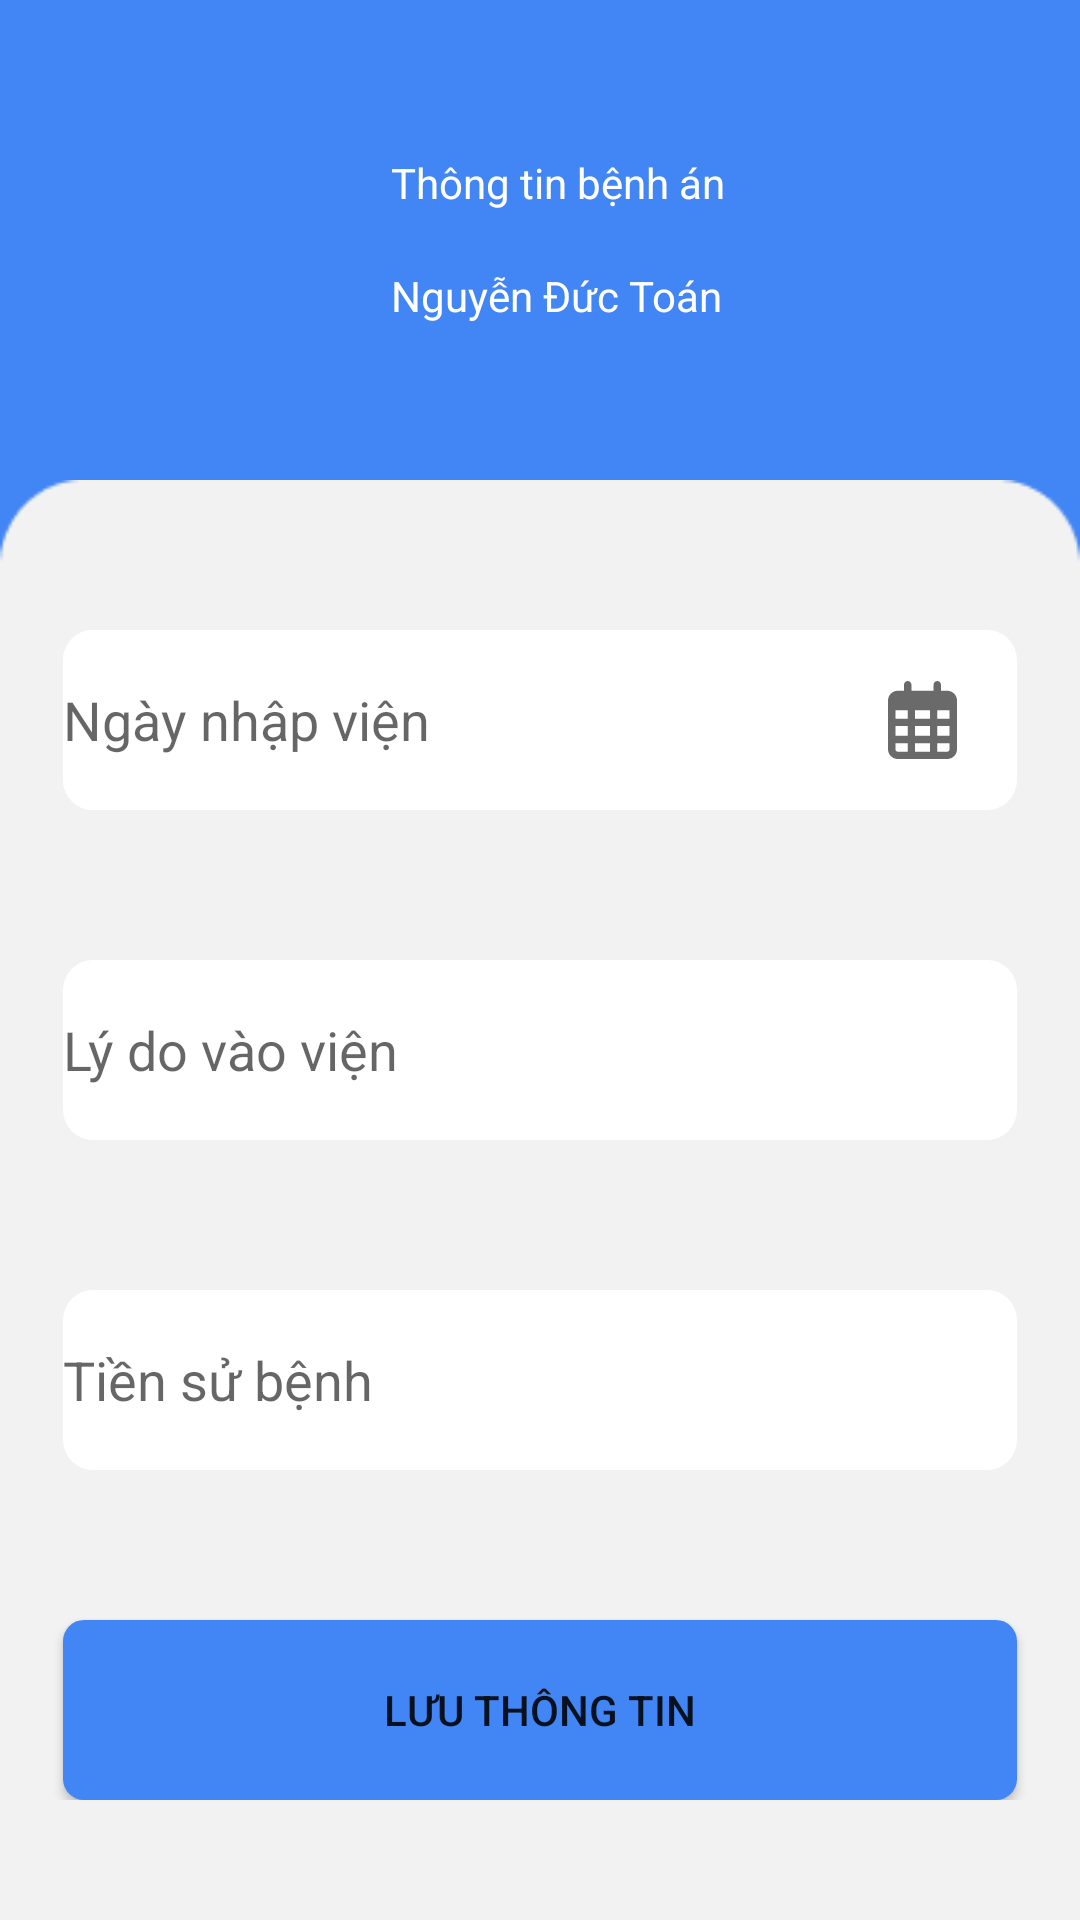

Named icons in this screenshot (1080 x 1920) and their centers, point (x, y):
calendar: point (922, 720)
